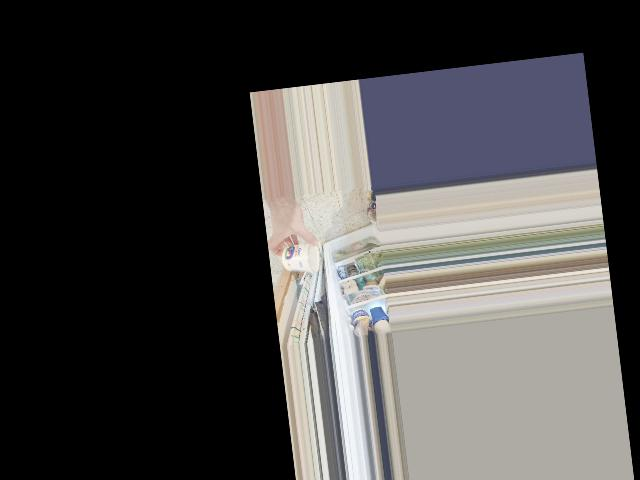cotage: (275, 233, 324, 278)
